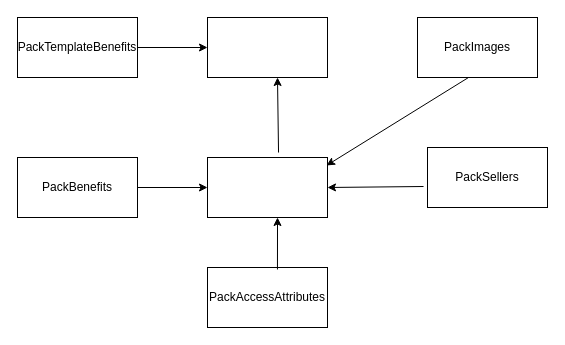
Some shapes in this 565 by 345 pixel diagram are drawn without their labels. The centre of each missing label's shape, as x and y in pixels:
"Pack" goes at [267,187].
"PackTemplate" goes at [267,47].
